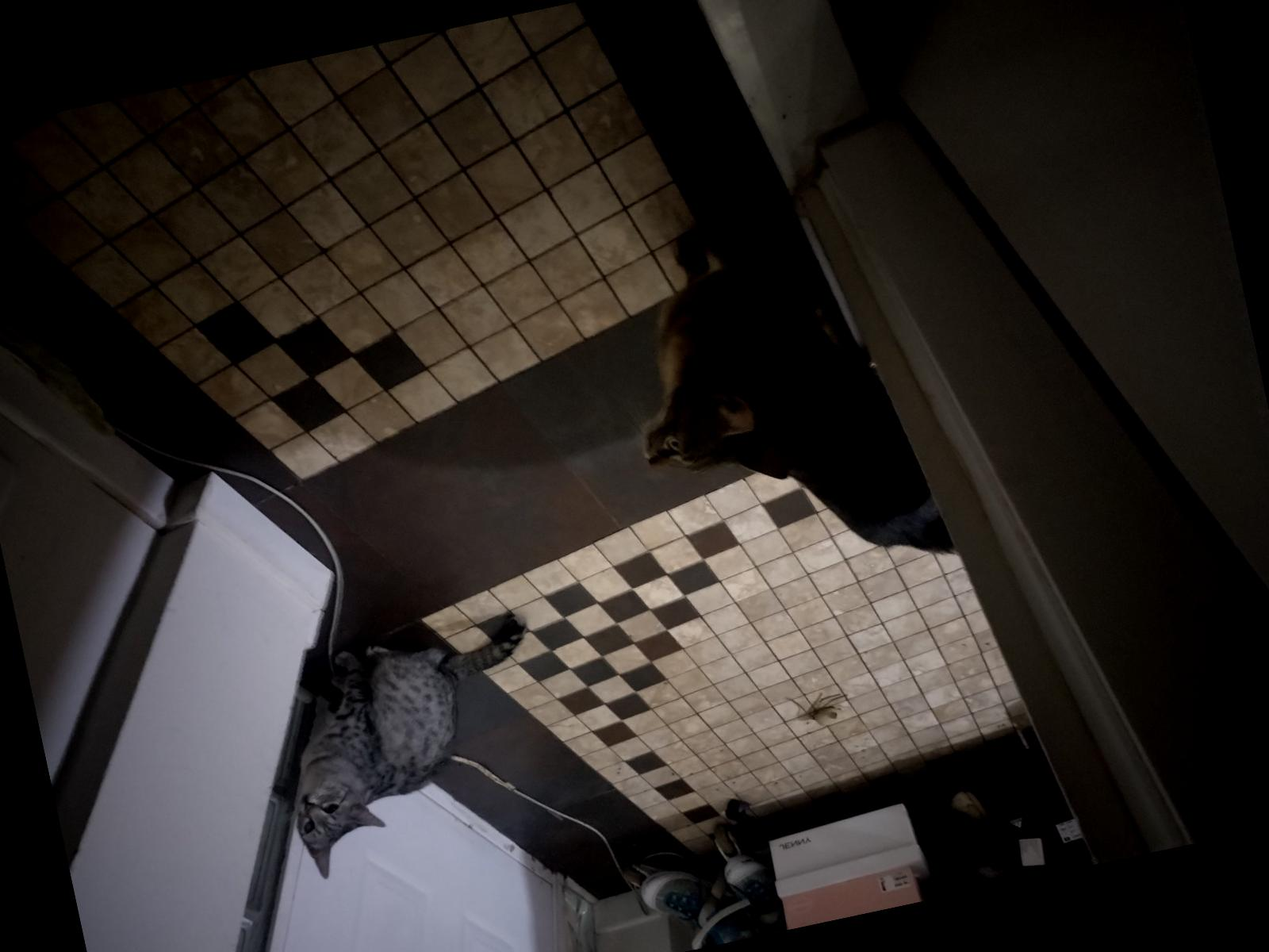macka: (598, 189, 960, 611), (258, 606, 572, 888)
